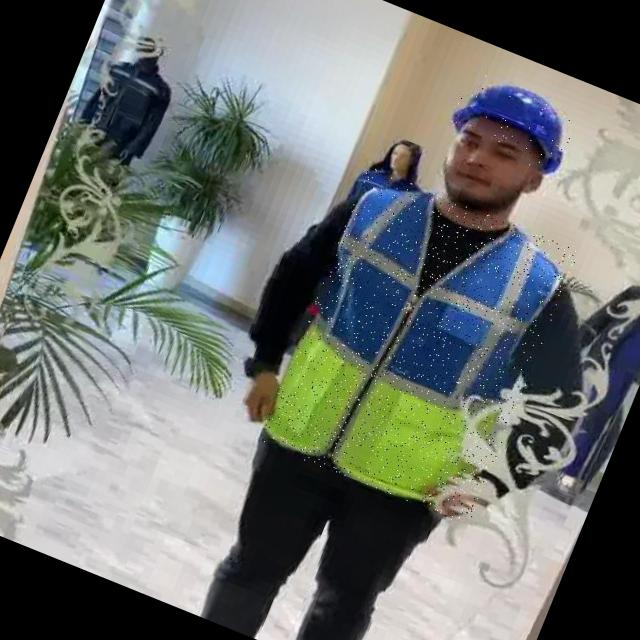hard_hat: (444, 68, 584, 178)
safety_vest: (258, 166, 580, 527)
